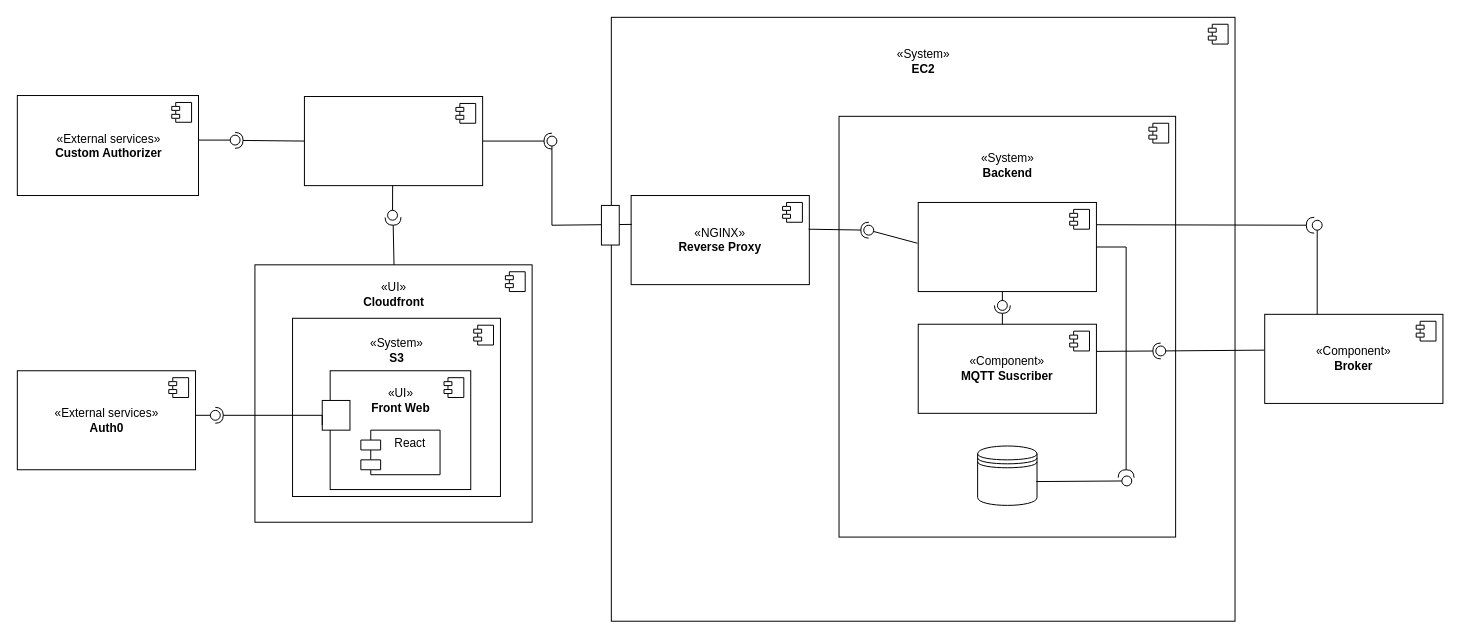
Some shapes in this 1460 by 639 pixel diagram are drawn without their labels. The box of each missing label's shape, as (x1, y1, x2, y2) in pixels:
DB: (977, 445, 1037, 505)
«Component» API: (917, 201, 1096, 292)
«System» API Gateway: (303, 96, 483, 186)
